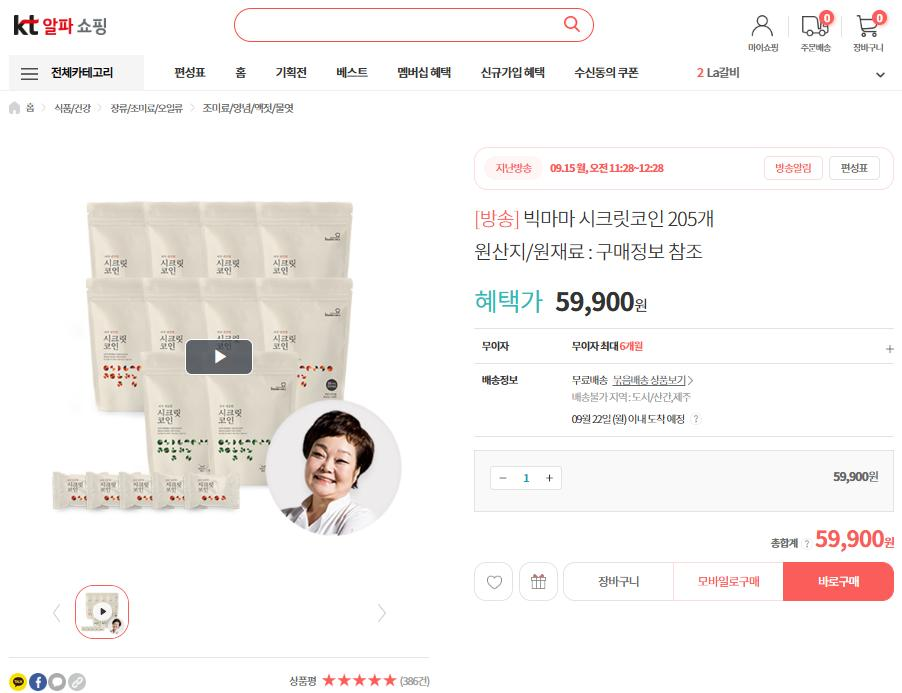button: (568, 565, 673, 602), (780, 561, 882, 597), (676, 567, 780, 602), (73, 585, 130, 640), (23, 59, 123, 81), (796, 9, 838, 61), (573, 61, 659, 84), (472, 61, 570, 81), (741, 8, 778, 57), (382, 63, 459, 85), (856, 11, 891, 53), (487, 469, 567, 487), (471, 563, 512, 598), (270, 60, 324, 85), (522, 565, 557, 602), (162, 62, 208, 89), (767, 158, 818, 179), (836, 160, 881, 177), (331, 63, 369, 82), (234, 61, 258, 87)
input_field: (233, 9, 591, 38)
